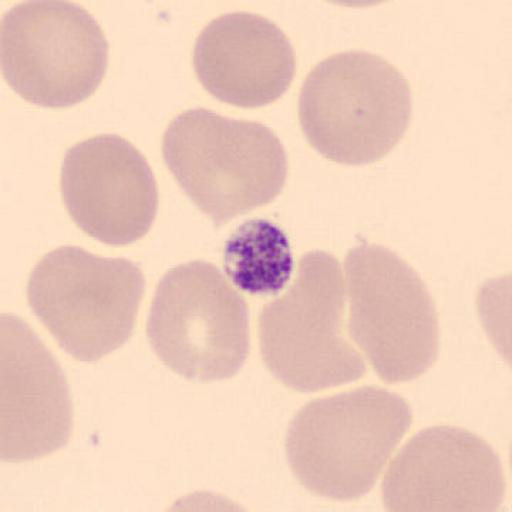Platelet: (220, 210, 297, 302)
RBC: (159, 106, 289, 231), (258, 247, 366, 393), (24, 242, 147, 366), (338, 237, 441, 385), (283, 387, 414, 502), (296, 48, 414, 168), (145, 258, 252, 385), (0, 0, 110, 110), (57, 133, 159, 248), (378, 422, 511, 510), (0, 310, 74, 466), (191, 10, 297, 111), (475, 271, 511, 368), (165, 488, 249, 511)
